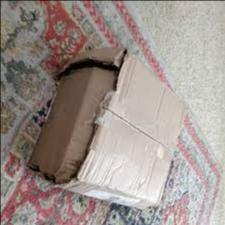damage_box: (25, 49, 188, 210)
